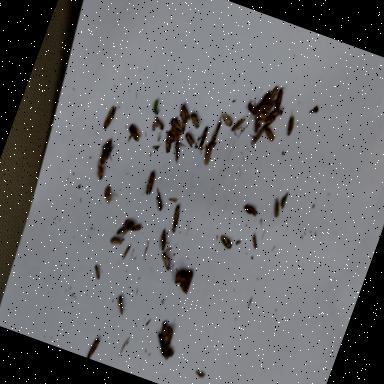pbw: (253, 90, 271, 124), (168, 140, 188, 166), (100, 104, 118, 132), (140, 172, 158, 200), (196, 126, 211, 156), (158, 252, 178, 274), (156, 228, 174, 252), (230, 114, 248, 138), (156, 322, 174, 346), (101, 185, 120, 207), (150, 189, 168, 212), (250, 124, 266, 149), (176, 104, 194, 126), (125, 125, 144, 144), (216, 110, 236, 128), (167, 116, 186, 134), (272, 88, 286, 112), (170, 205, 184, 229), (161, 132, 176, 154), (202, 143, 216, 166), (93, 160, 108, 181), (116, 221, 133, 239), (210, 121, 222, 146), (87, 337, 100, 360), (188, 112, 204, 130), (182, 131, 198, 149), (122, 220, 142, 234), (114, 296, 128, 316), (284, 116, 297, 137), (270, 200, 284, 219), (218, 236, 234, 252), (262, 128, 277, 143), (246, 100, 260, 116), (256, 110, 270, 126), (243, 205, 260, 218), (264, 98, 276, 116), (268, 86, 280, 104), (262, 114, 276, 129), (268, 107, 282, 122), (151, 117, 166, 131), (91, 264, 104, 280), (167, 129, 181, 143), (252, 119, 262, 134), (250, 236, 260, 250), (110, 237, 122, 248), (122, 246, 130, 260), (168, 196, 178, 205), (152, 144, 160, 152), (156, 132, 162, 142)
